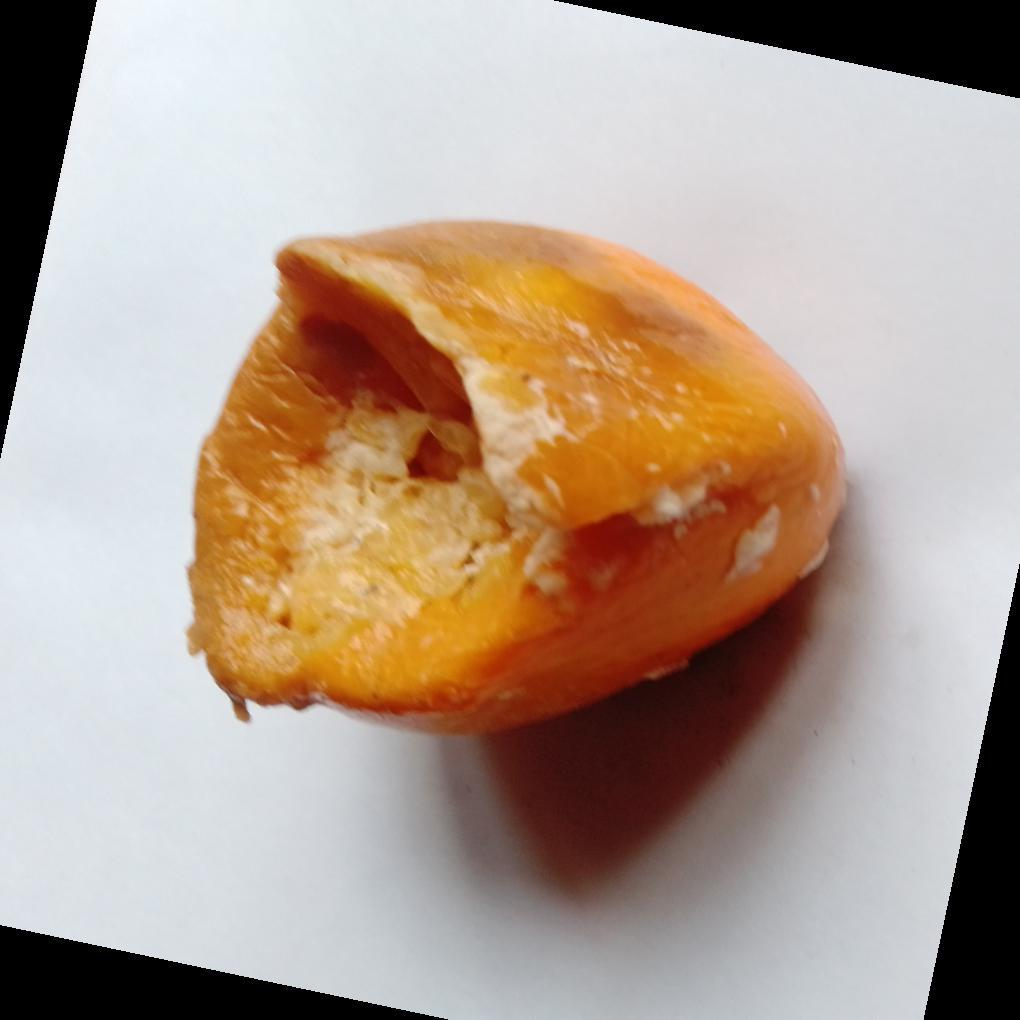FreshOrange: (186, 221, 849, 740)
